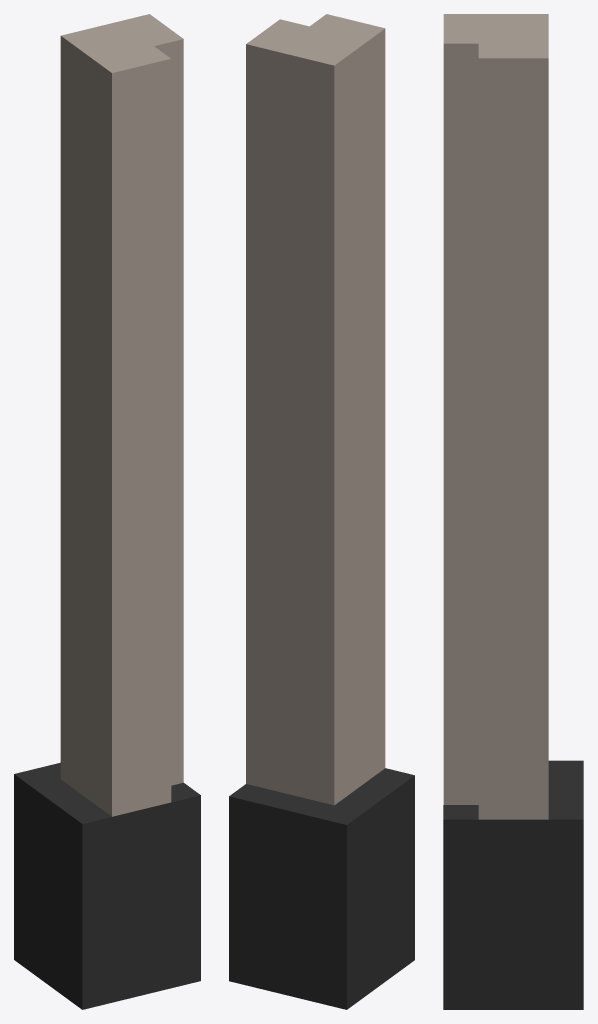
File: cantos_dentro.fbx
3 renders of one model, left to right at view 1: azimuth 30°, elevation 25°; view 2: azimuth 150°, elevation 25°; view 3: azimuth 270°, elevation 25°, orthographic. The views are drawn at different scales.
Parts seen in each view (by area): view 1: Parede.059; view 2: Parede.059; view 3: Parede.059.
Boxes of the visible parts, x1,y1,x2,y2 form: Parede.059: (14,14,200,1009); Parede.059: (229,14,414,1009); Parede.059: (443,14,583,1009).
Size of the model in its own units: 40 by 300 by 40.01.
